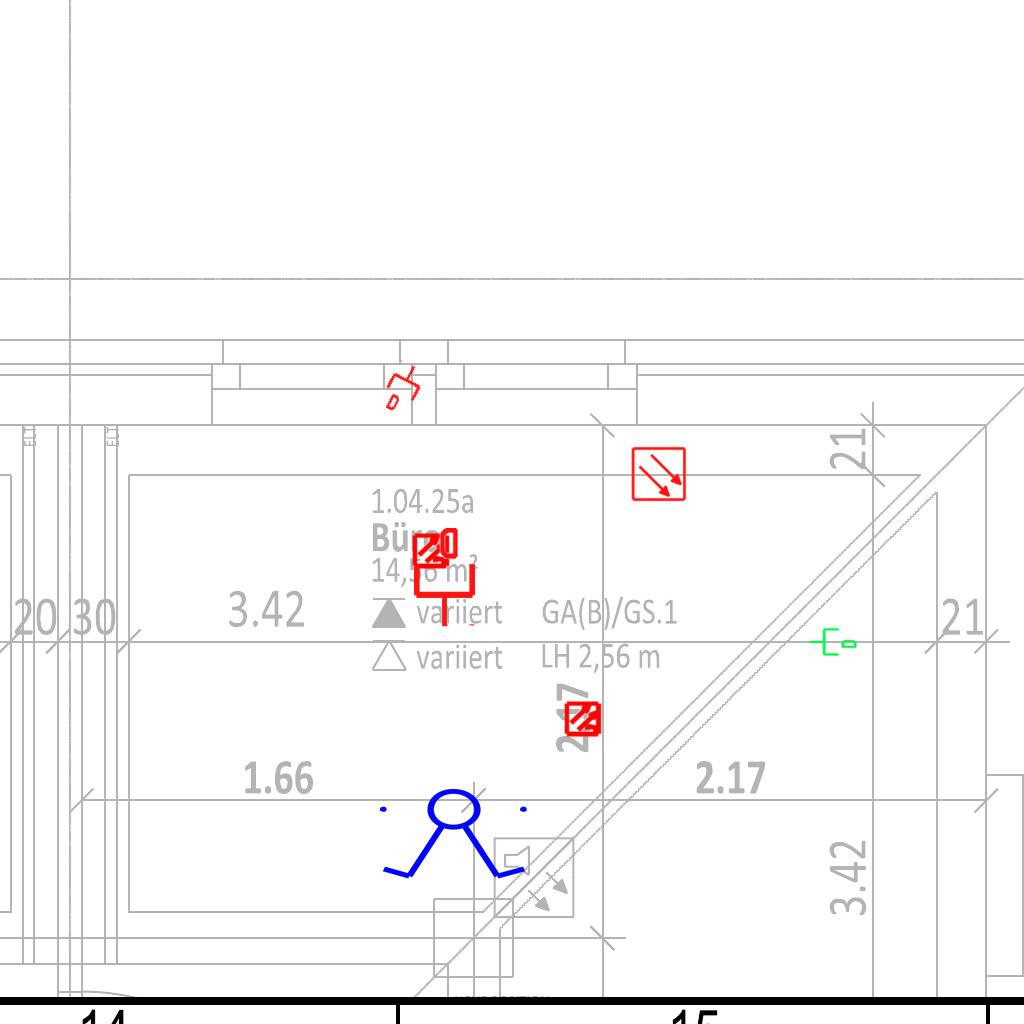Datenanschluss_einfach: (410, 528, 479, 628), (376, 358, 430, 418), (808, 624, 858, 658)
OT_Multisensormelder_(Kombination_RMO_WMD): (404, 523, 460, 579), (556, 691, 612, 747)
RMO_Rauchmelder_optischer: (631, 446, 687, 502)
Serienschalter: (371, 787, 539, 883)
